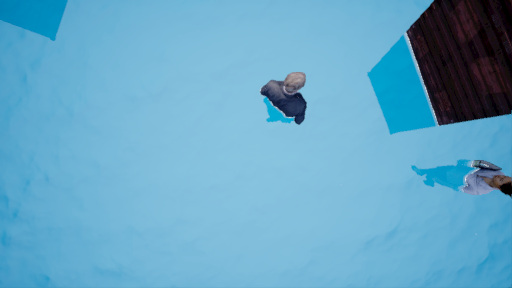person: (426, 152, 512, 200), (257, 71, 308, 129)
